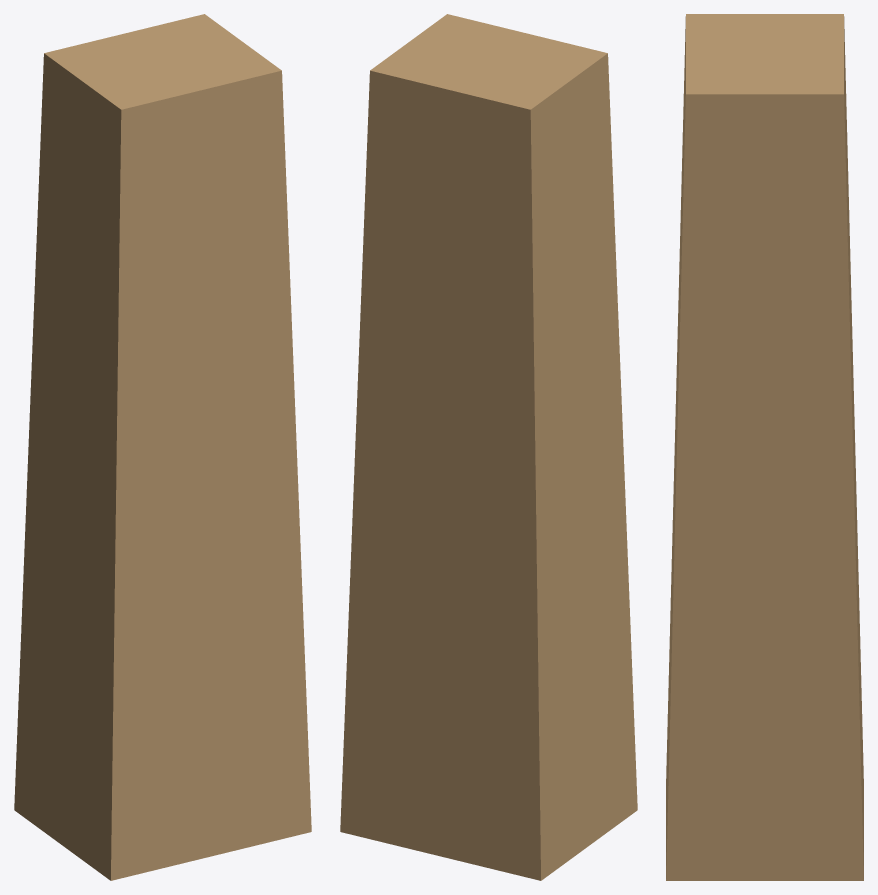
Rendered from prop-bow-saw-handle-bs1.fbx.
The picture shows the model from 3 angles, left to right: view 1: azimuth 30°, elevation 25°; view 2: azimuth 150°, elevation 25°; view 3: azimuth 270°, elevation 25°; orthographic projection. The views are drawn at different scales.
Parts seen in each view (by area): view 1: prop-bow-saw-handle-bs1; view 2: prop-bow-saw-handle-bs1; view 3: prop-bow-saw-handle-bs1.
Boxes of the visible parts, <box> form: prop-bow-saw-handle-bs1: <box>14,14,311,880</box>; prop-bow-saw-handle-bs1: <box>340,14,637,880</box>; prop-bow-saw-handle-bs1: <box>666,14,863,880</box>.
Bounding box in the file's own units: 3.6 × 13 × 3.
